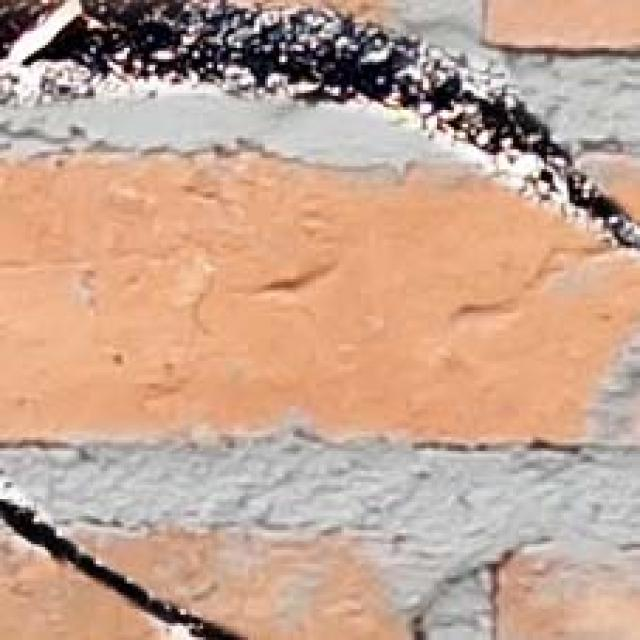Crack: (0, 4, 640, 295), (0, 462, 266, 640)
